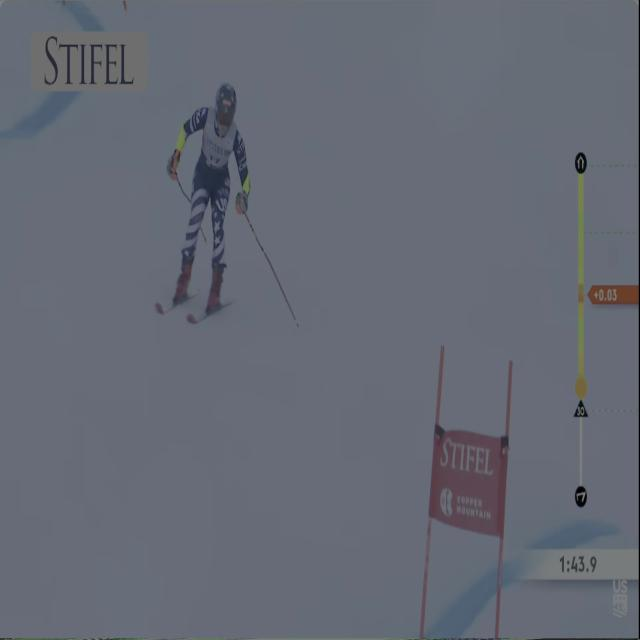gate: (382, 341, 458, 640), (486, 331, 519, 640)
